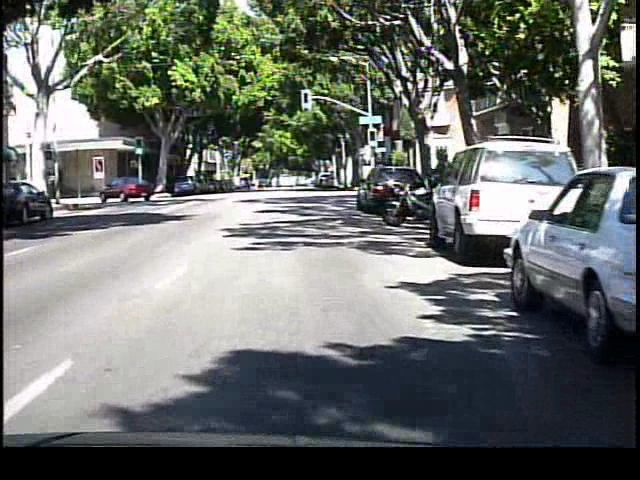person: (429, 135, 463, 235)
